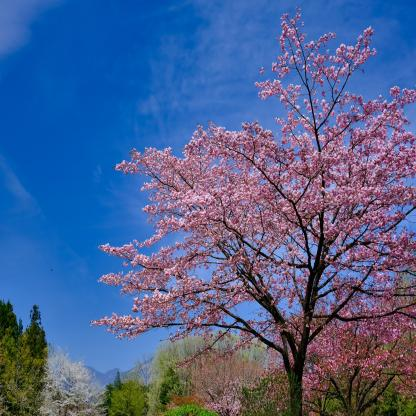YaeSakura: (90, 5, 416, 359), (288, 303, 416, 410), (271, 296, 338, 416), (200, 349, 252, 416)
